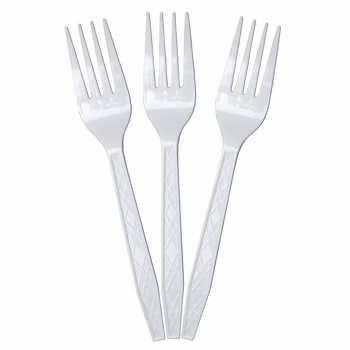Fork: (181, 16, 282, 341), (64, 18, 165, 342), (142, 11, 196, 339)
